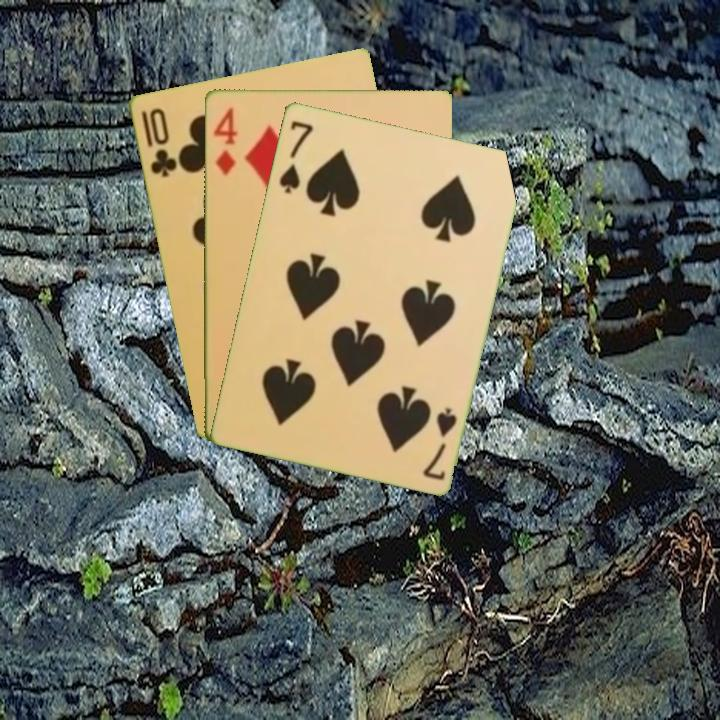10c: (137, 104, 179, 180)
4d: (209, 103, 240, 178)
7s: (275, 116, 316, 196), (419, 403, 460, 483)
